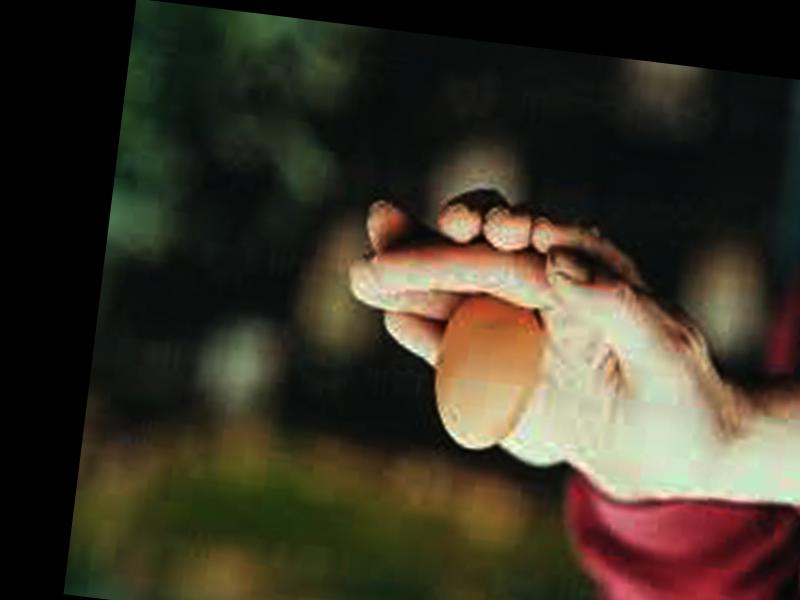Eggs: (428, 293, 547, 455)
